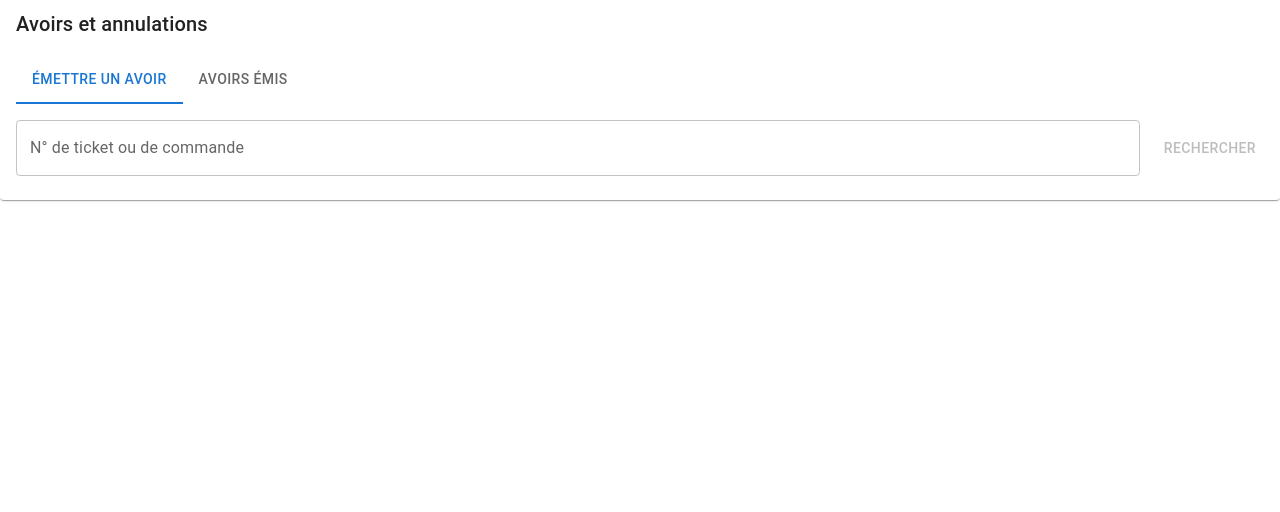
une commande non livrée ne peut qu'être annulée
In the field labelled "N° de ticket ou de commande": (578,148) x1=16 y1=120 x2=1140 y2=176, type "T01-T2026-000001"
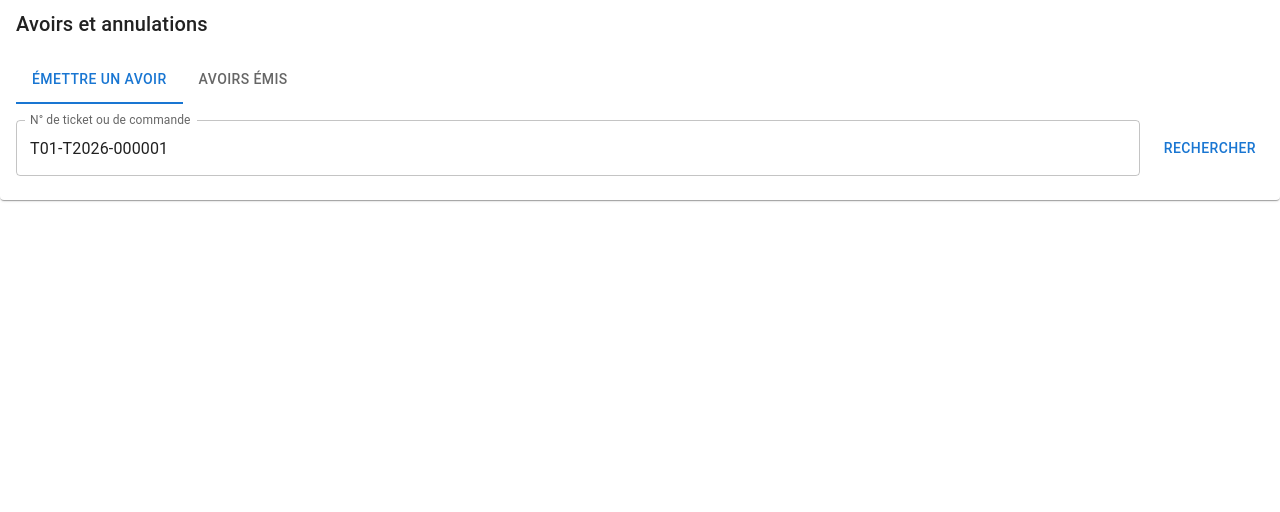
Click the button "Rechercher": (1210,148) x1=1156 y1=120 x2=1264 y2=176
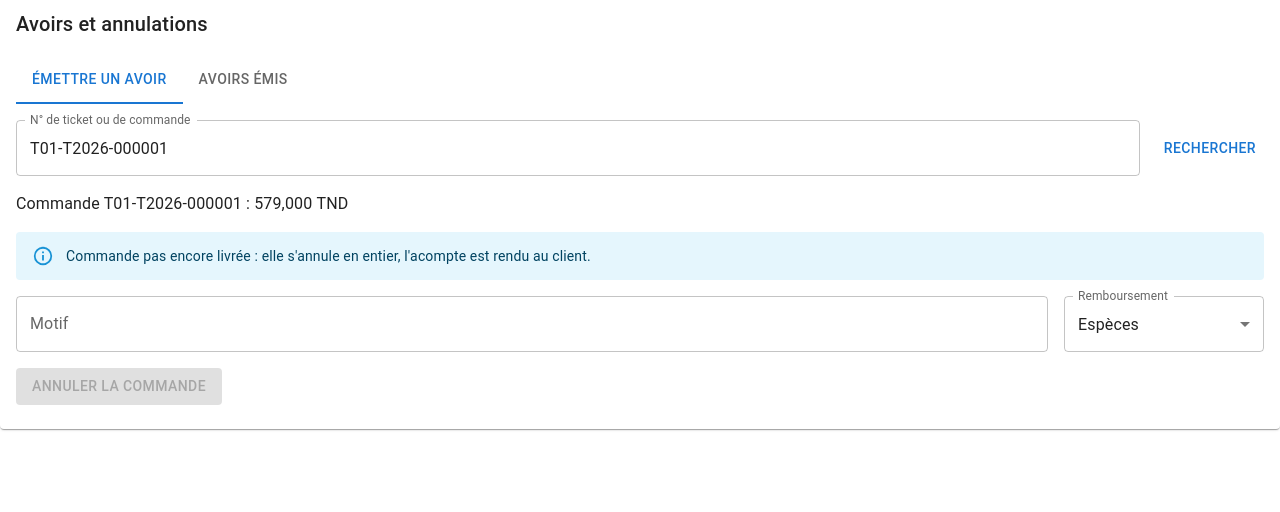
Check: the text "Commande T01-T2026-000001 : 579,000 TND" is shown, box x1=16 y1=194 x2=348 y2=213
In the field labelled "Motif": (532,324) x1=16 y1=296 x2=1048 y2=352, type "Client a changé d'avis"
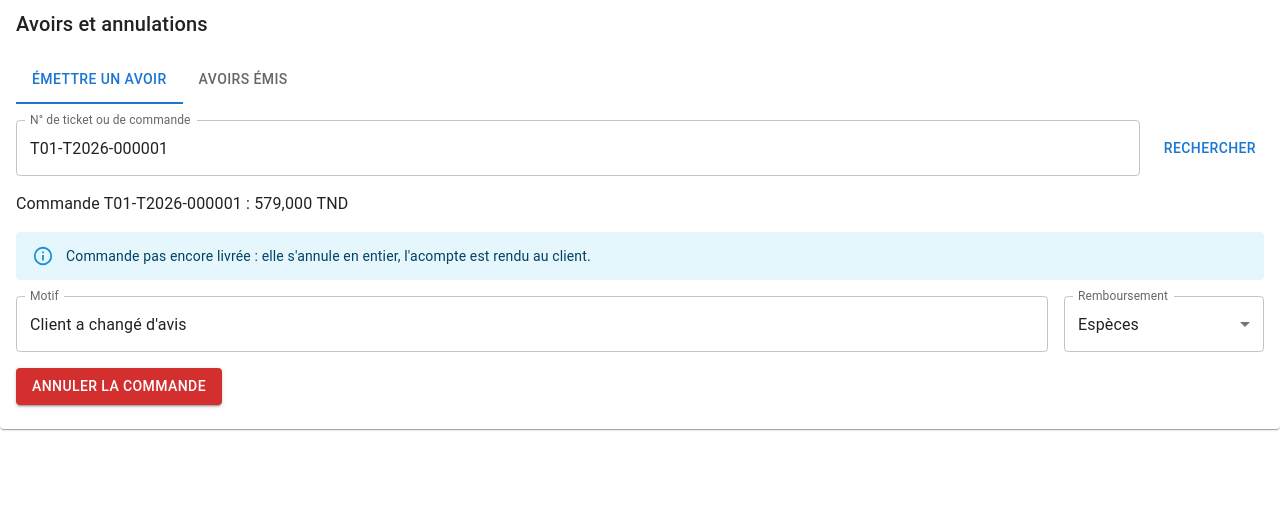
Click the button "Annuler la commande": (119,386) x1=16 y1=368 x2=222 y2=404
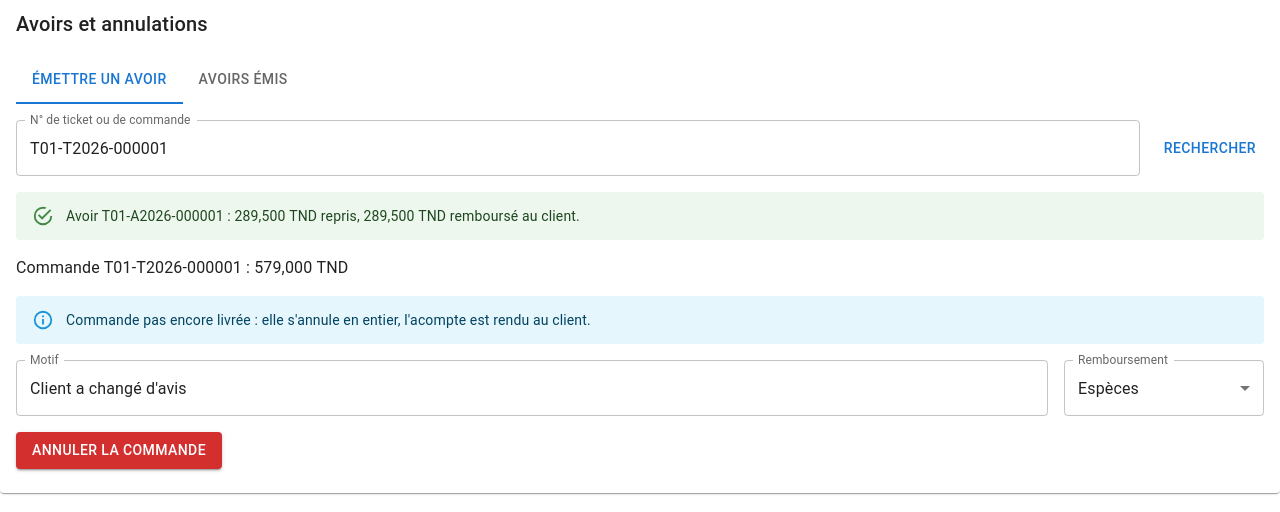
Check: the text "Avoir T01-A2026-000001" is shown, box x1=66 y1=208 x2=580 y2=224
